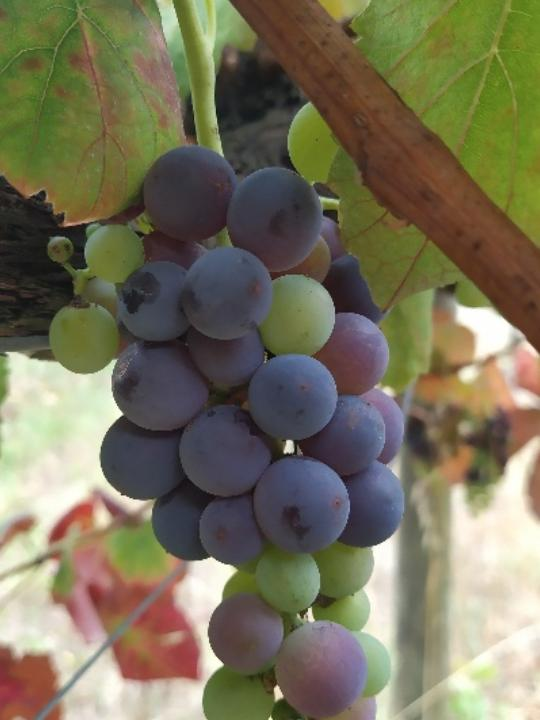grape: (42, 142, 411, 720)
